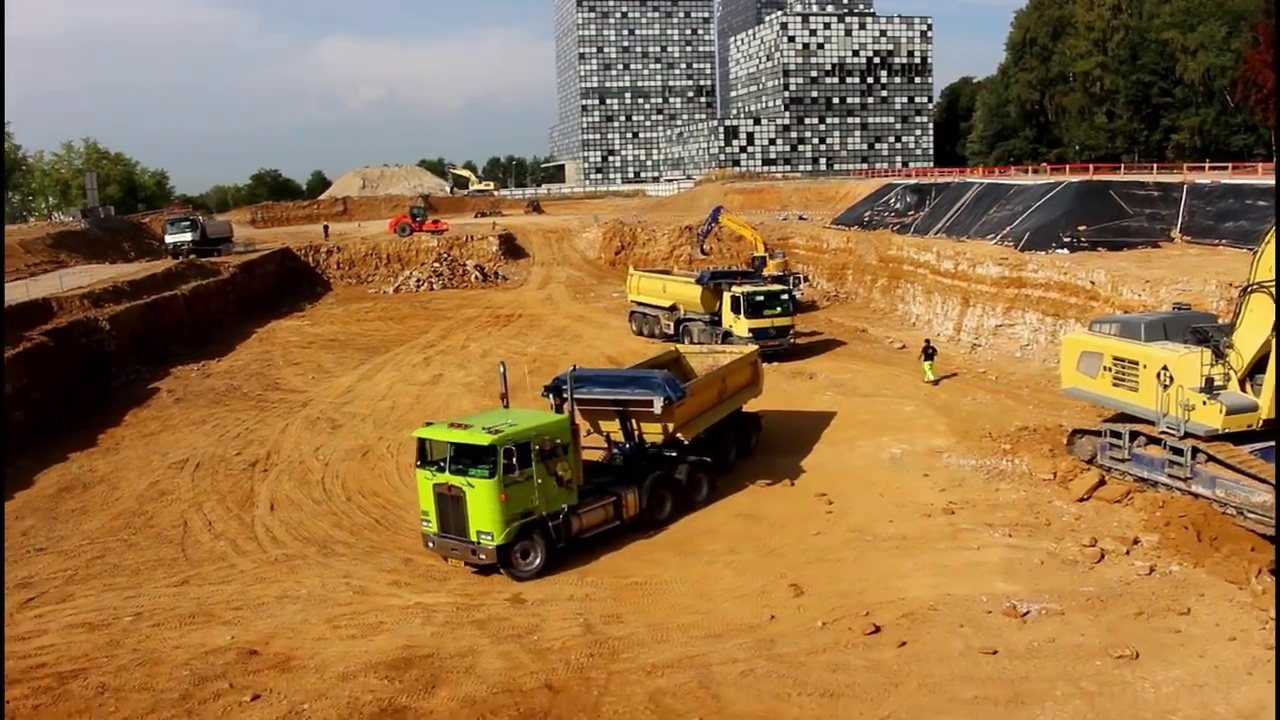compactor: (385, 203, 451, 237)
excavator: (1055, 213, 1280, 548), (689, 202, 793, 293), (441, 162, 499, 199)
truck: (407, 340, 767, 585), (623, 262, 799, 359), (161, 212, 237, 261)
worker: (917, 334, 943, 392), (321, 217, 332, 244)
